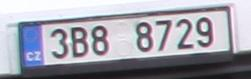2: (177, 19, 194, 49)
3: (50, 29, 68, 58)
7: (156, 20, 171, 50)
8: (136, 22, 153, 52), (92, 26, 109, 55)
9: (197, 17, 213, 47)
B: (71, 27, 88, 57)
